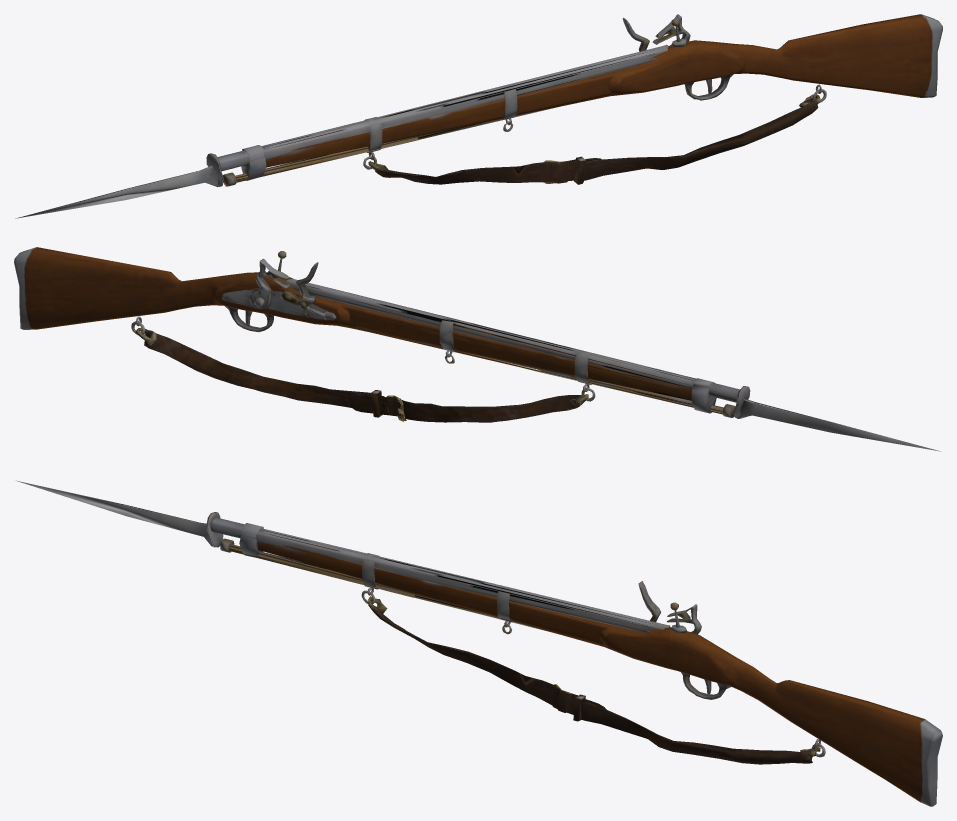
Rendered from fusil-1777.glb.
3 views of the same model, one above another, from view 1: azimuth 30°, elevation 25°; view 2: azimuth 150°, elevation 25°; view 3: azimuth 330°, elevation 25° (orthographic).
Parts seen in each view (by area): view 1: geometry_0; view 2: geometry_0; view 3: geometry_0.
Boxes of the visible parts, x1,y1,x2,y2 form: geometry_0: (15,14,942,218); geometry_0: (14,247,940,451); geometry_0: (16,480,942,806).
Size of the model in its own units: 0.9609 by 0.1504 by 0.0327.
Materials: 1 (1 with a texture image).
